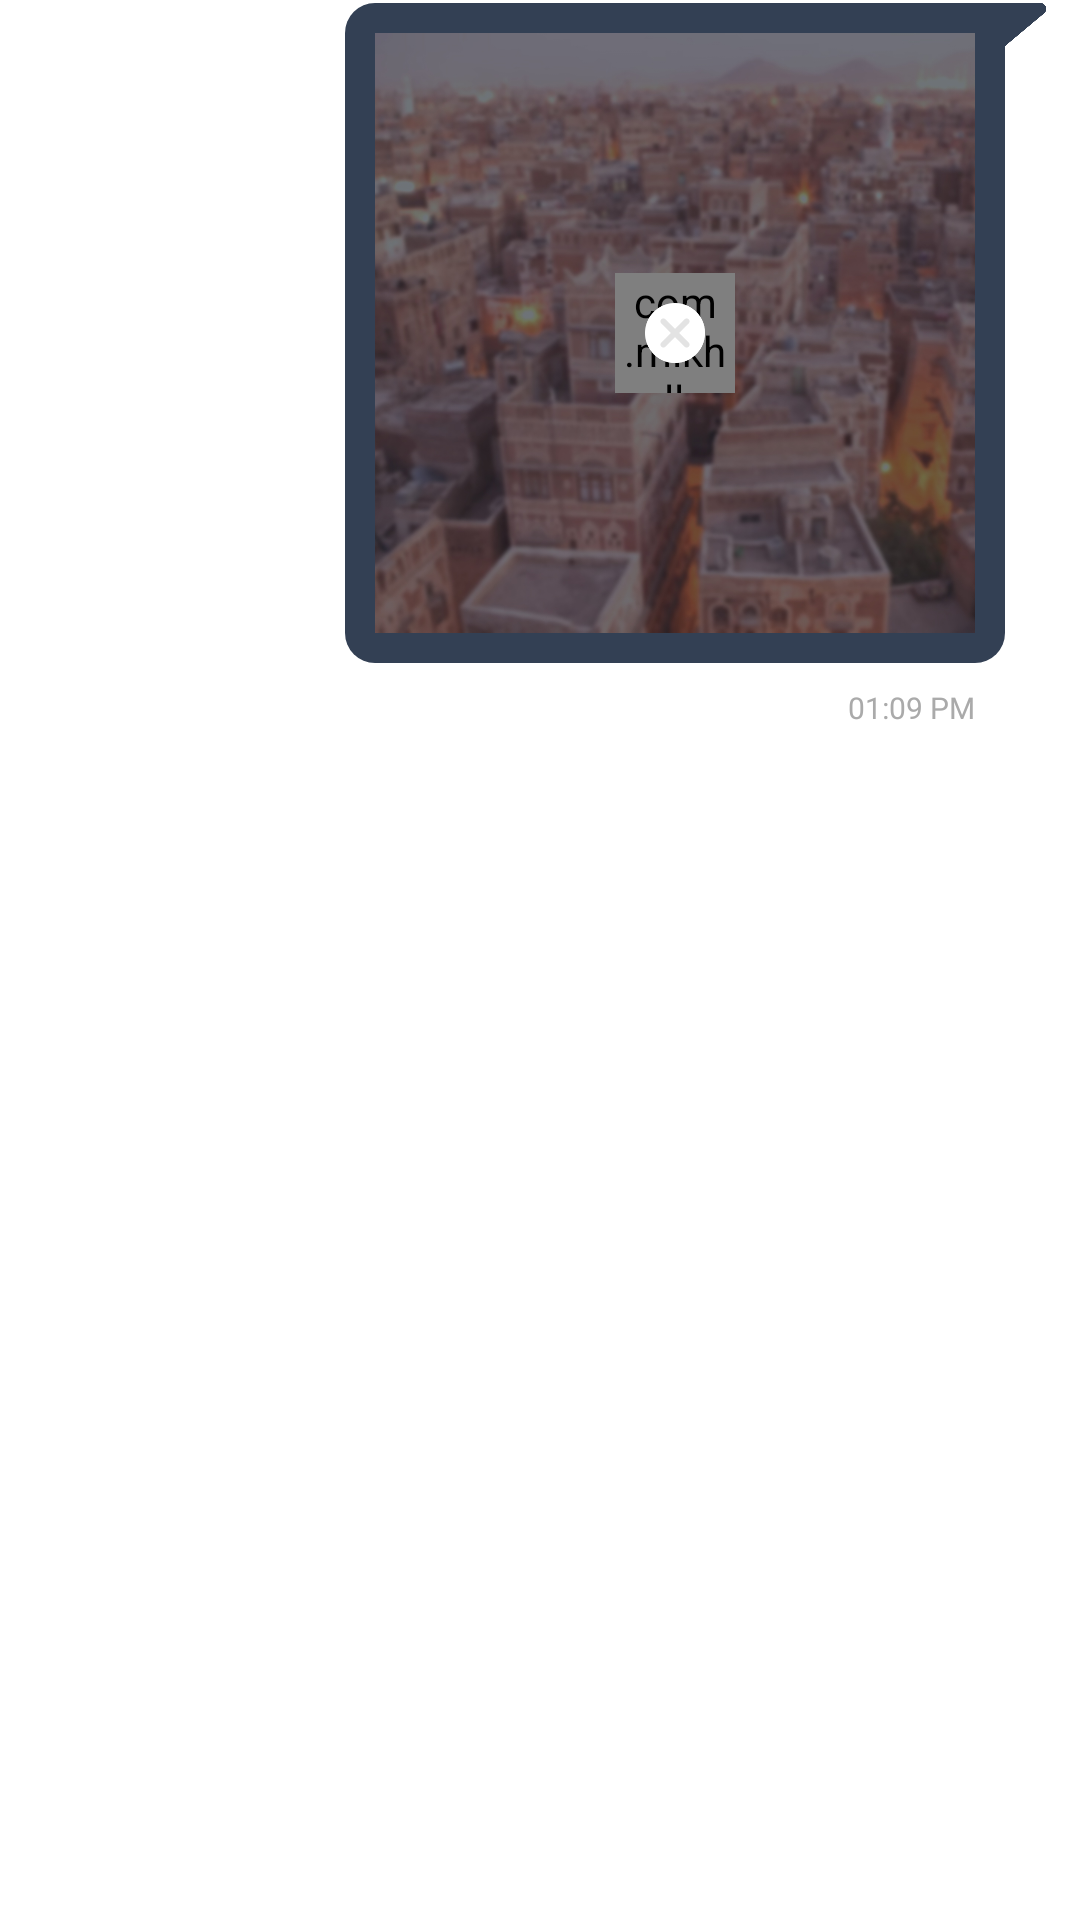

Locate icon controls on the screen. Image size 1080 × 1920, boxes as (x1, y1, x2, y2).
cancel: (645, 303, 705, 363)
